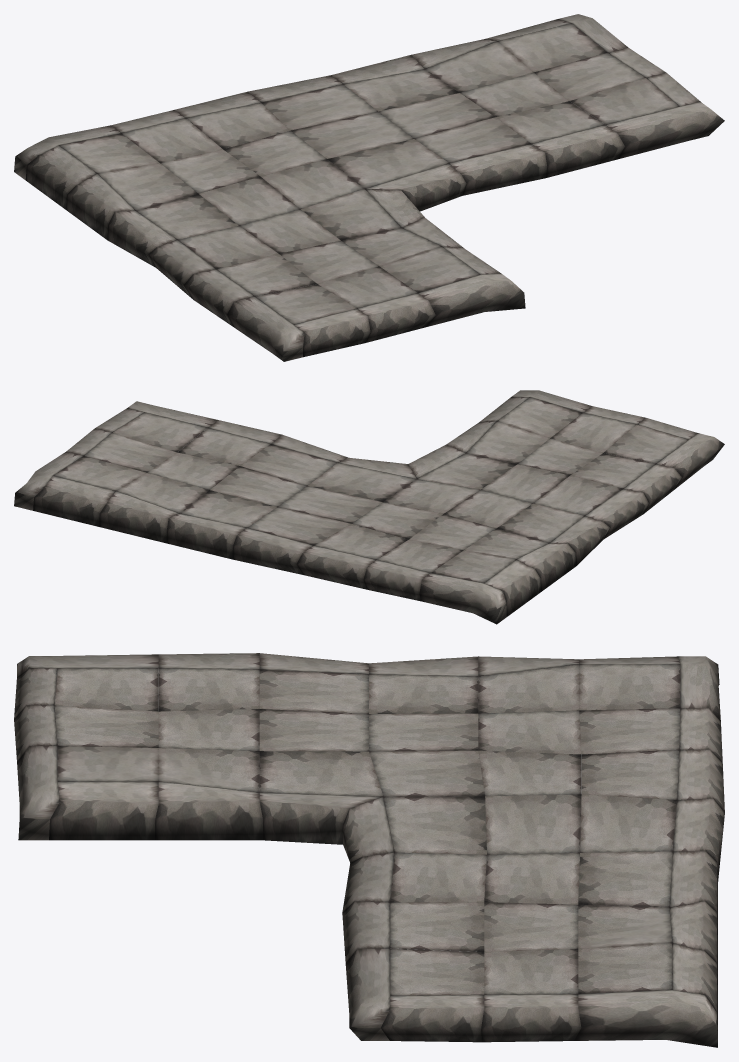
Rendered from rock_slab_turn_right_10m.DAE.
3 views of the same model, one above another, from view 1: azimuth 30°, elevation 25°; view 2: azimuth 150°, elevation 25°; view 3: azimuth 270°, elevation 25° (orthographic). The views are drawn at different scales.
Visible parts, largest first — view 1: Box01; view 2: Box01; view 3: Box01.
Part boxes in pixels (bbox=[...]): Box01: bbox=[14, 14, 724, 361]; Box01: bbox=[14, 390, 724, 624]; Box01: bbox=[14, 653, 724, 1047].
Bounding box in the file's own units: 16.07 × 0.8055 × 13.11.
